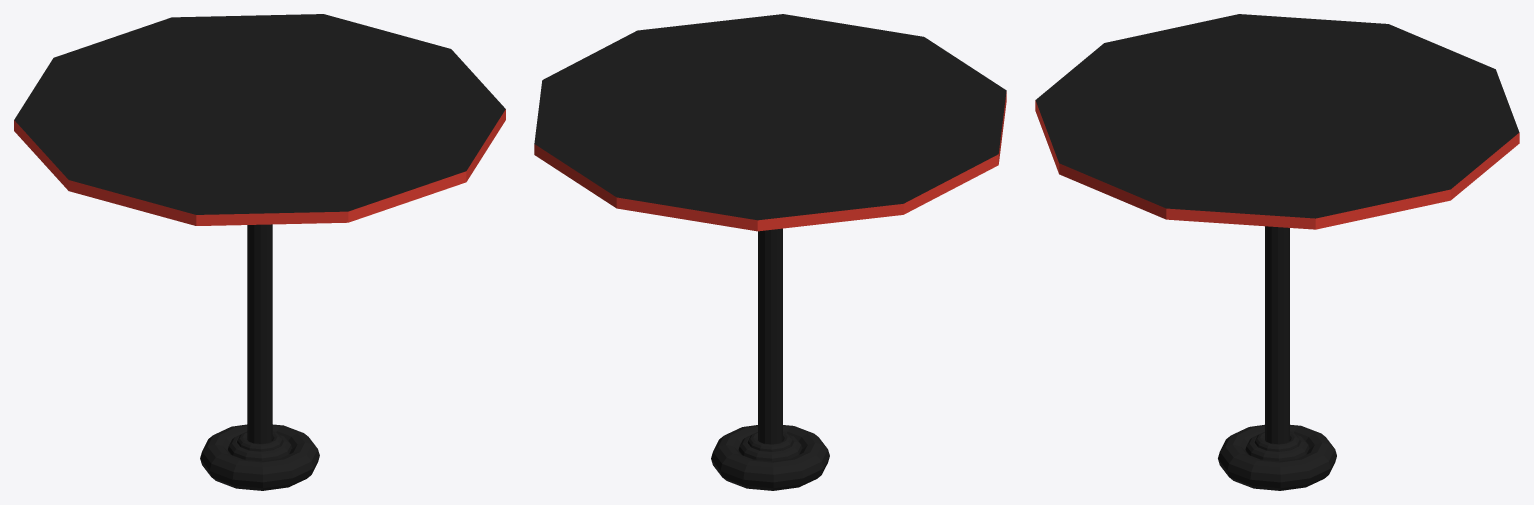
Rendered from table.glb.
3 views of the same model, side by side, from view 1: azimuth 30°, elevation 25°; view 2: azimuth 150°, elevation 25°; view 3: azimuth 270°, elevation 25° (orthographic).
Parts seen in each view (by area): view 1: group381821202, group1264327753, group2016560928, group84872808; view 2: group381821202, group1264327753, group2016560928, group84872808; view 3: group381821202, group1264327753, group2016560928, group84872808.
Boxes of the visible parts, x1,y1,x2,y2 form: group381821202: (14, 14, 505, 225); group1264327753: (247, 224, 272, 443); group2016560928: (200, 424, 319, 490); group84872808: (228, 434, 291, 460); group381821202: (534, 14, 1006, 231); group1264327753: (758, 228, 782, 444); group2016560928: (711, 425, 829, 490); group84872808: (738, 434, 802, 461); group381821202: (1035, 14, 1519, 229); group1264327753: (1265, 226, 1289, 444); group2016560928: (1218, 424, 1336, 490); group84872808: (1245, 434, 1309, 461).
Bounding box in the file's own units: 2.71 × 2.19 × 2.71.
